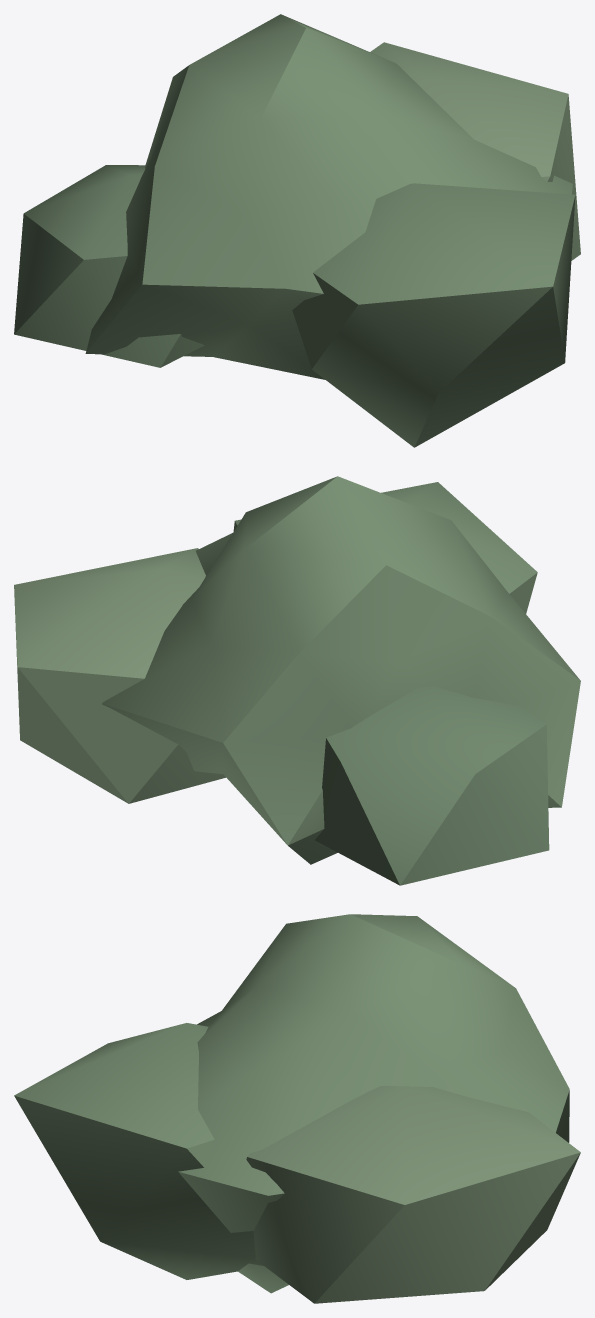
Rendered from bush_green.gltf.
3 views of the same model, one above another, from view 1: azimuth 30°, elevation 25°; view 2: azimuth 150°, elevation 25°; view 3: azimuth 270°, elevation 25° (orthographic). The views are drawn at different scales.
Parts seen in each view (by area): view 1: Body; view 2: Body; view 3: Body.
Boxes of the visible parts, x1,y1,x2,y2 form: Body: (14, 14, 580, 447); Body: (14, 476, 580, 885); Body: (14, 914, 580, 1303).
Bounding box in the file's own units: 2.23 × 1.44 × 2.08.
